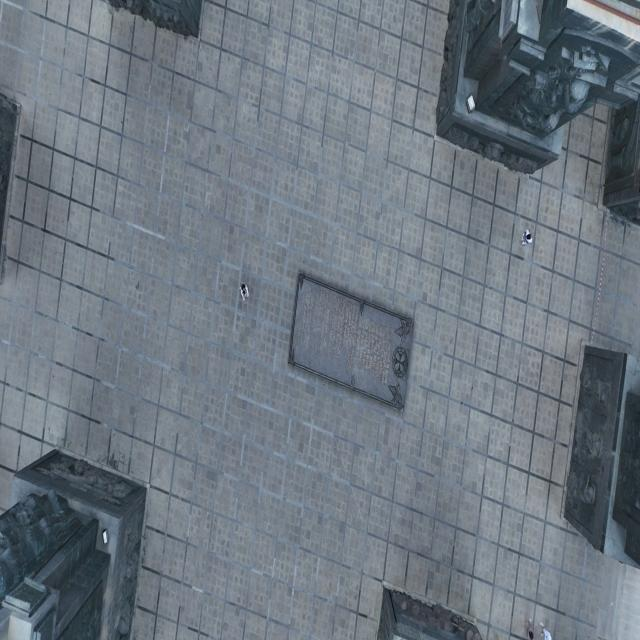vehicle: (524, 616, 534, 638), (540, 624, 552, 640), (240, 282, 249, 300), (522, 228, 532, 244)
